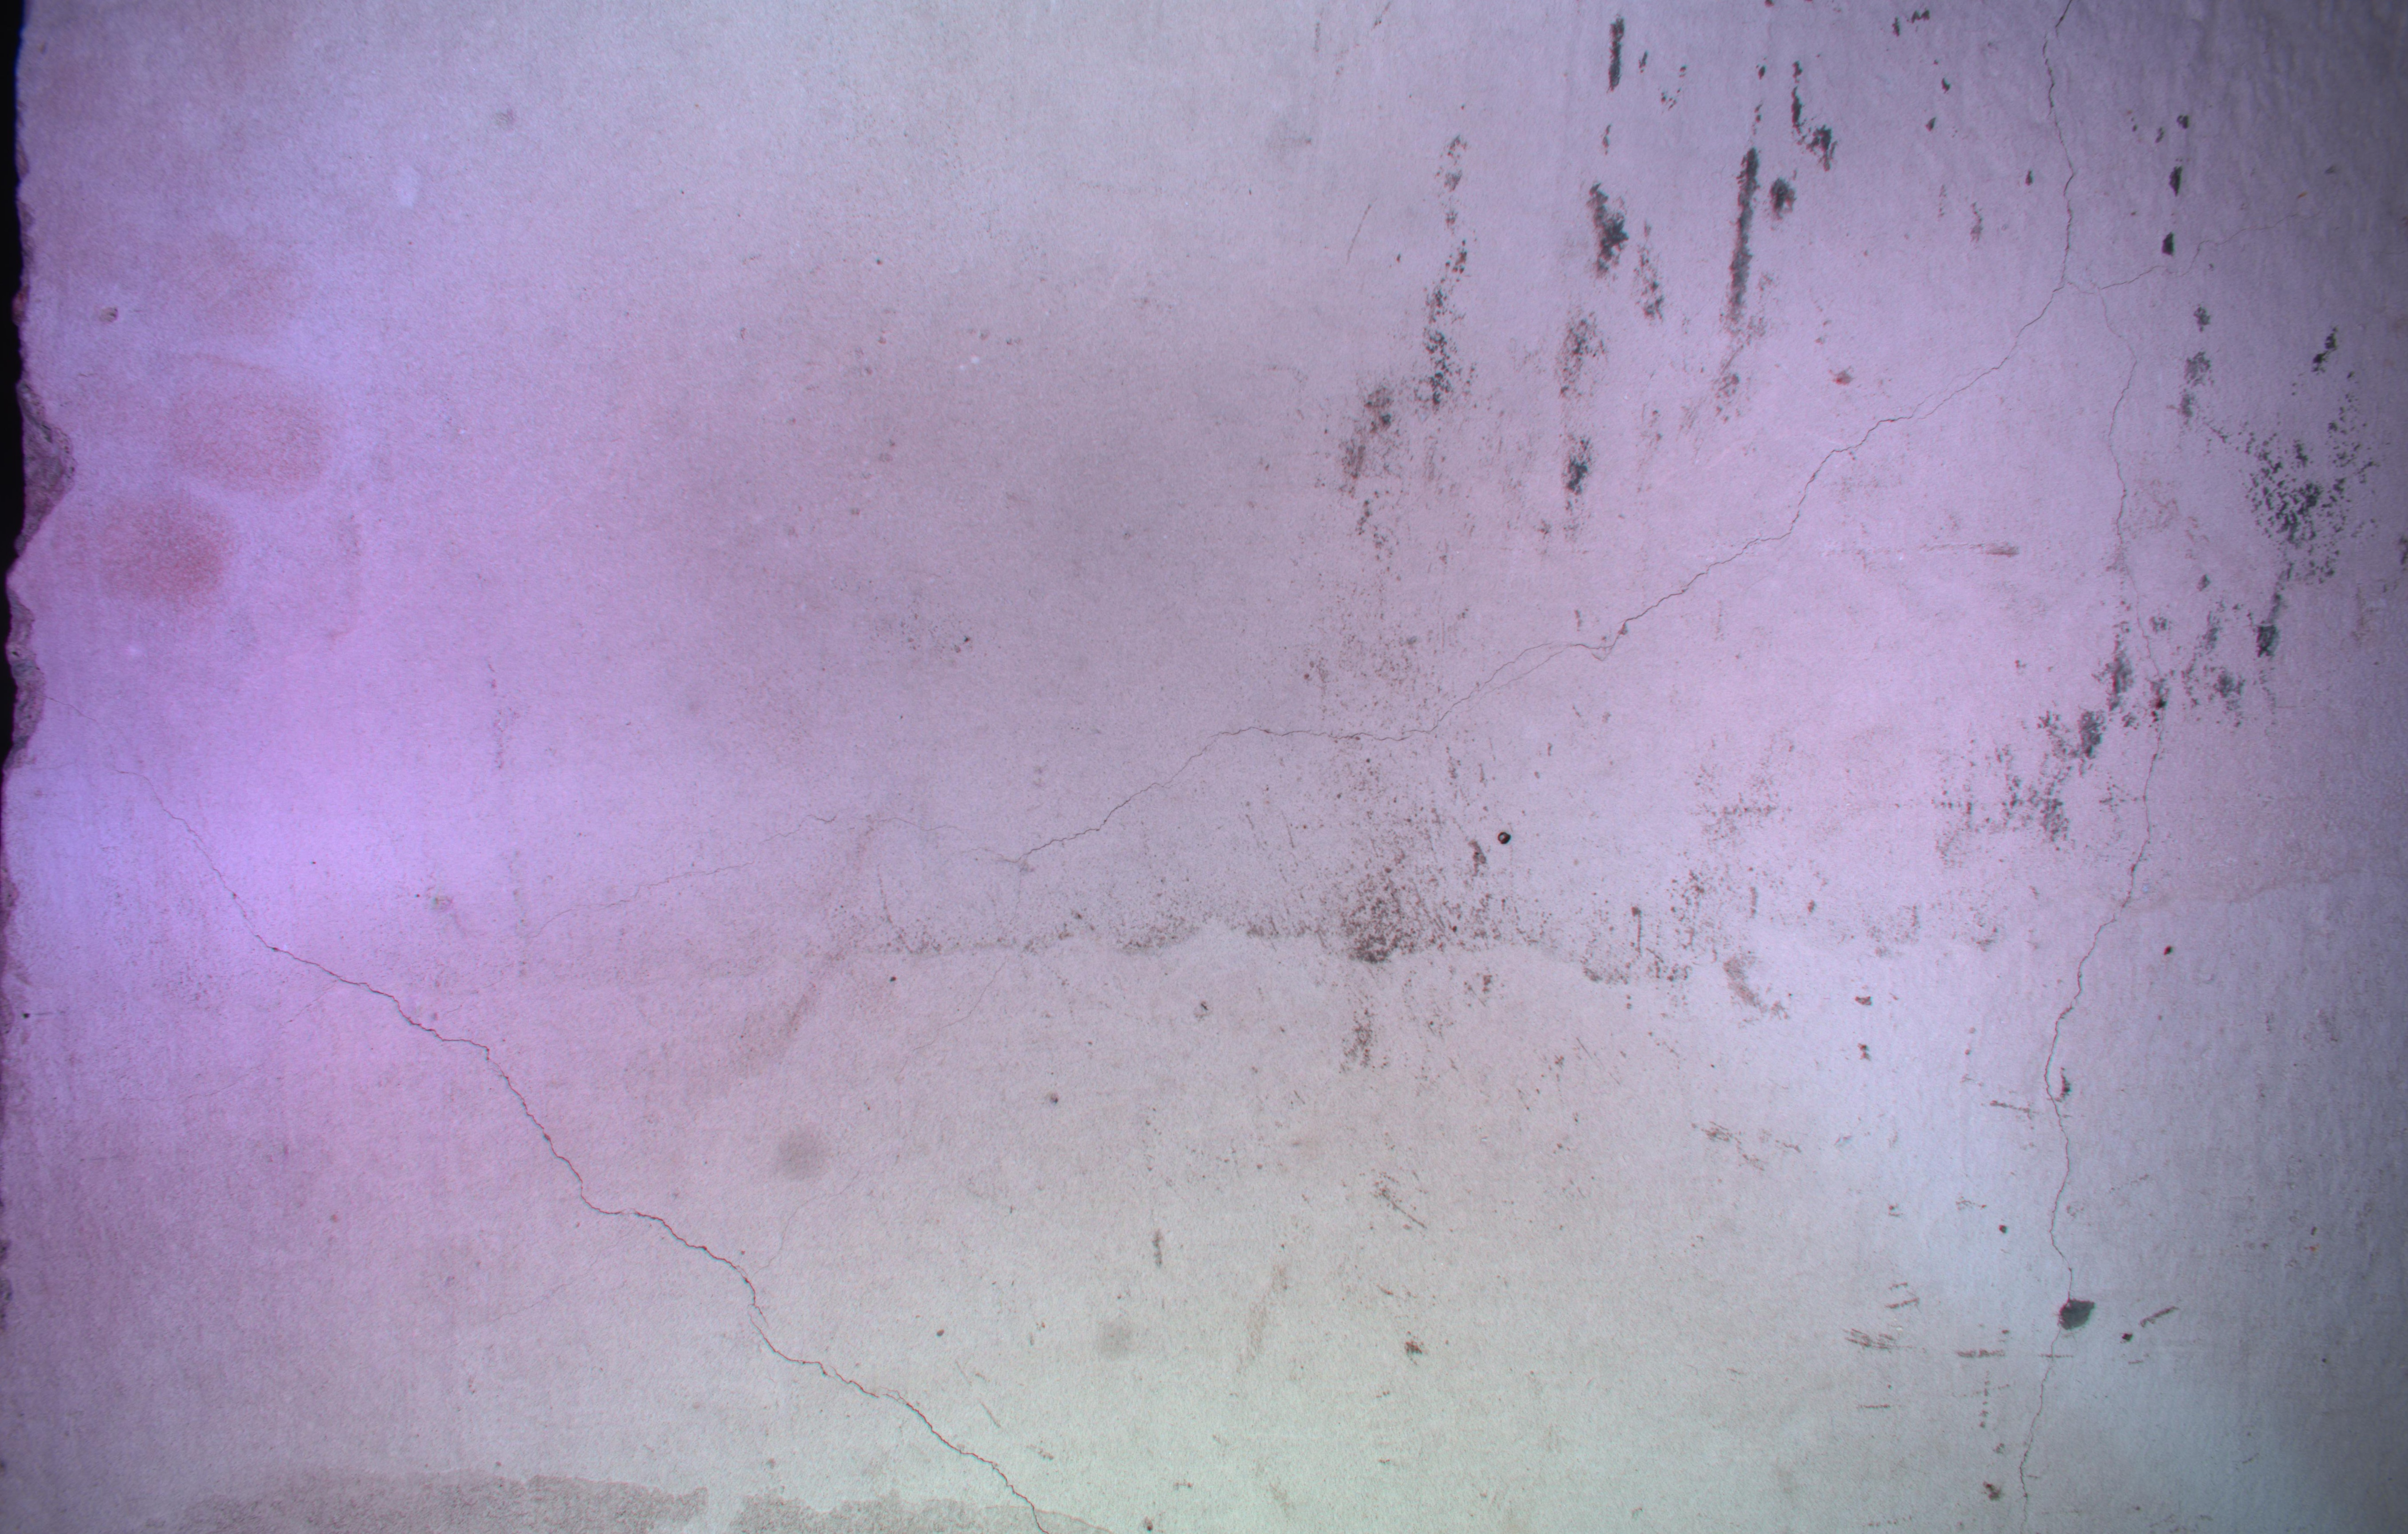Crack: (119, 709, 1062, 1534), (962, 254, 2085, 878), (1996, 262, 2157, 1534), (2027, 97, 2392, 326), (2015, 0, 2124, 316)
